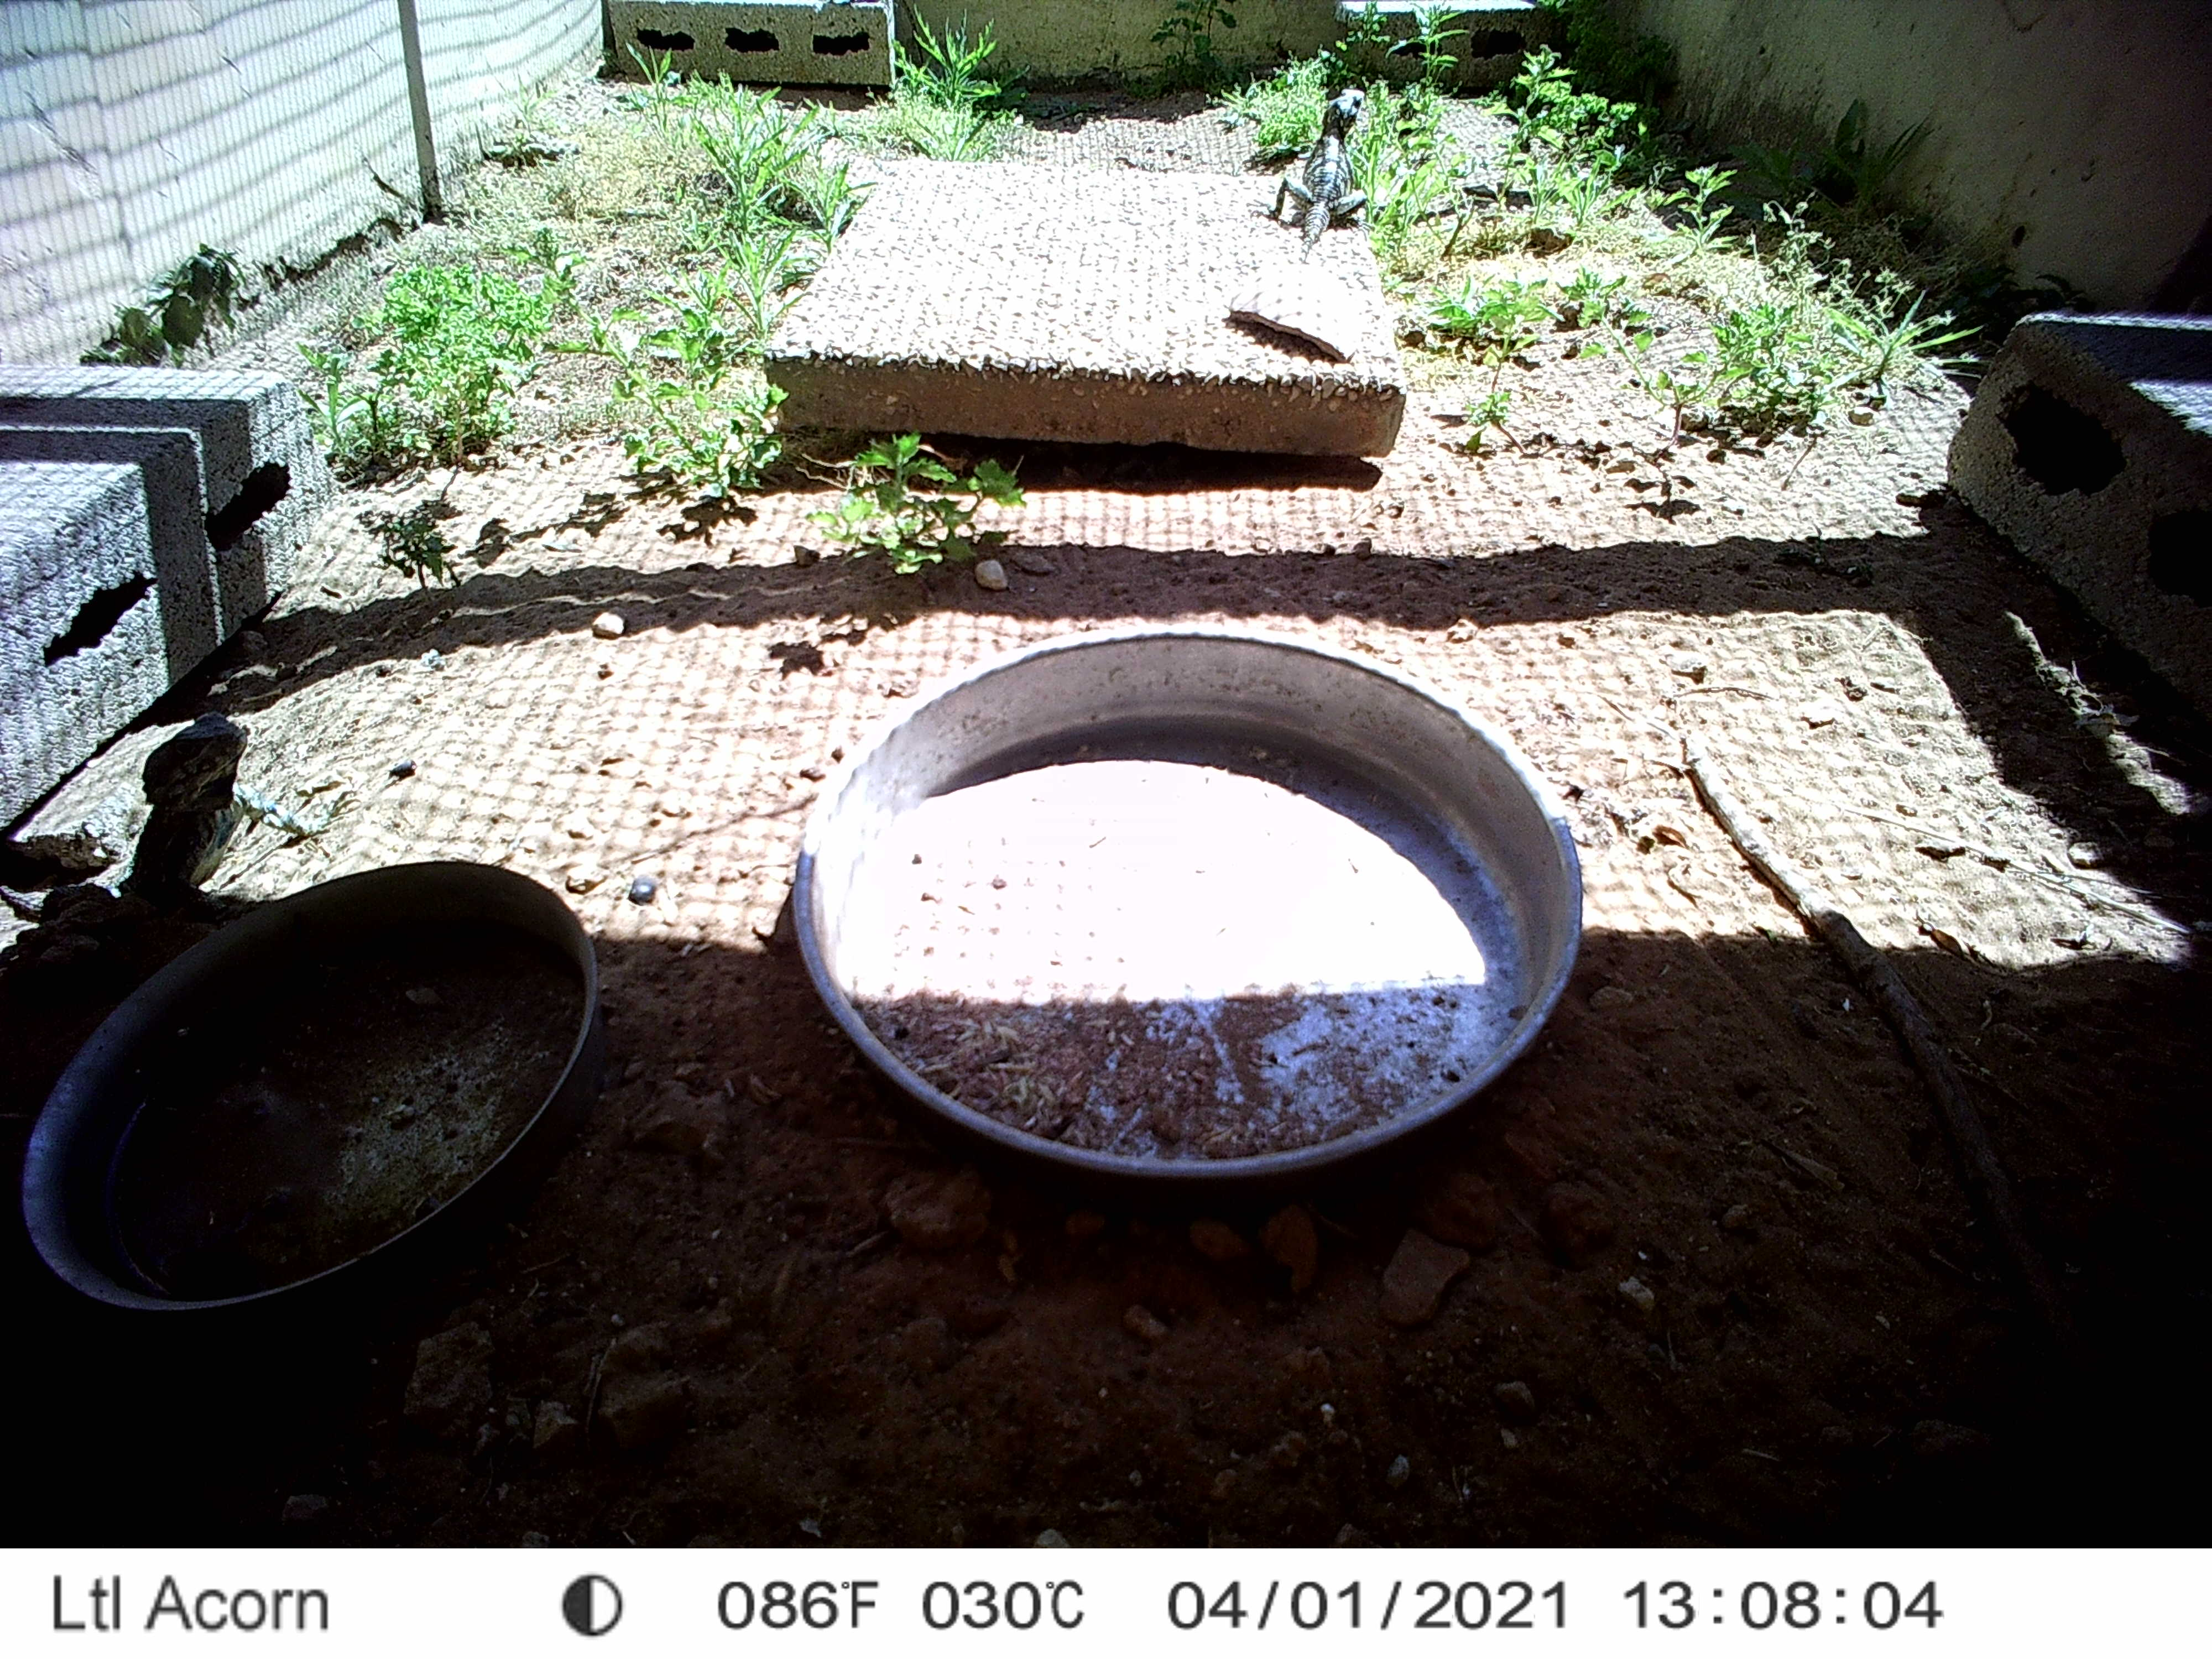lizard: (19, 714, 354, 950), (1242, 87, 1381, 272)
